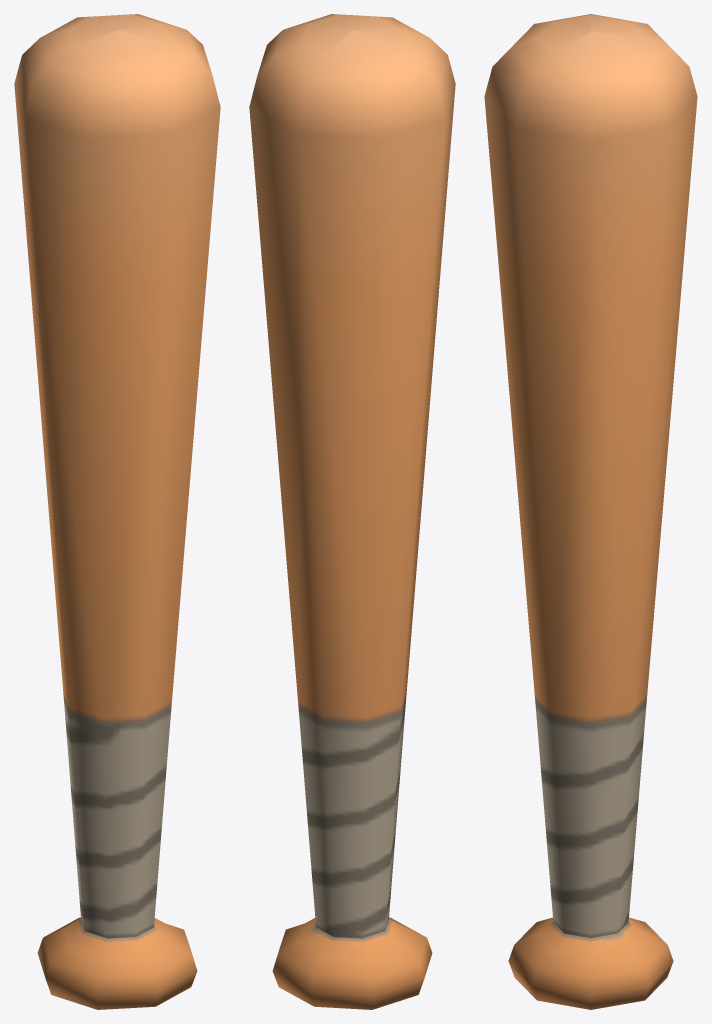
File: BaseballBat.obj
3 views of the same model, side by side, from view 1: azimuth 30°, elevation 25°; view 2: azimuth 150°, elevation 25°; view 3: azimuth 270°, elevation 25° (orthographic).
Parts seen in each view (by area): view 1: Meshes_BaseballBat__1_; view 2: Meshes_BaseballBat__1_; view 3: Meshes_BaseballBat__1_.
Part boxes in pixels (x1,y1,x2,y2): Meshes_BaseballBat__1_: (14,14,220,1009); Meshes_BaseballBat__1_: (249,14,455,1009); Meshes_BaseballBat__1_: (484,14,697,1009).
Bounding box in the file's own units: 0.4345 × 2.15 × 0.4345.
1 material, 1 textured.
